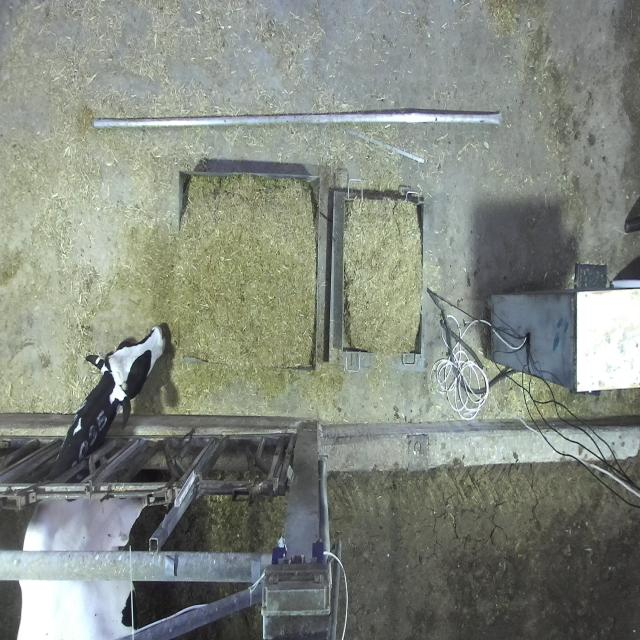cow: (84, 324, 165, 430)
